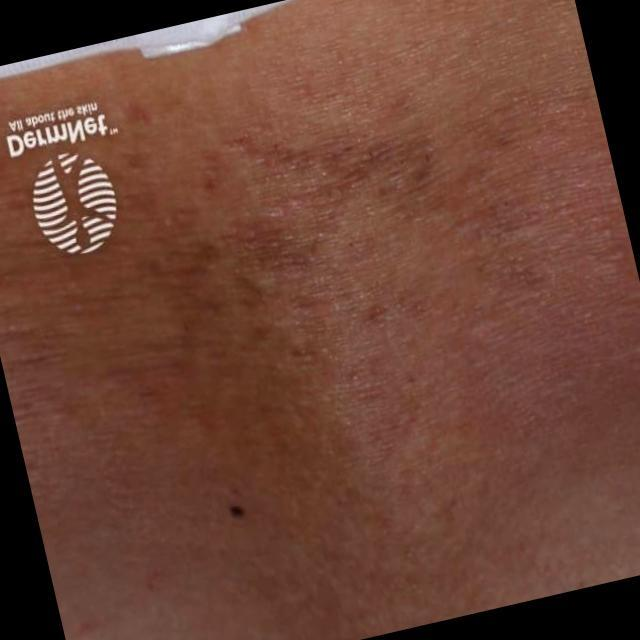Eczema: (83, 122, 521, 550)
